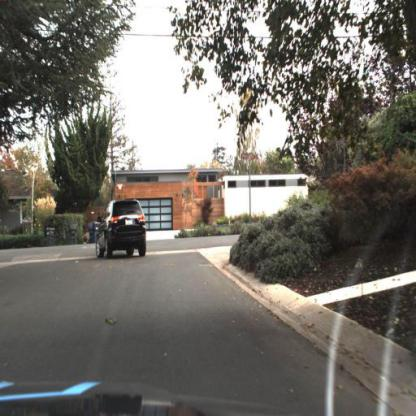car: (93, 193, 153, 265)
